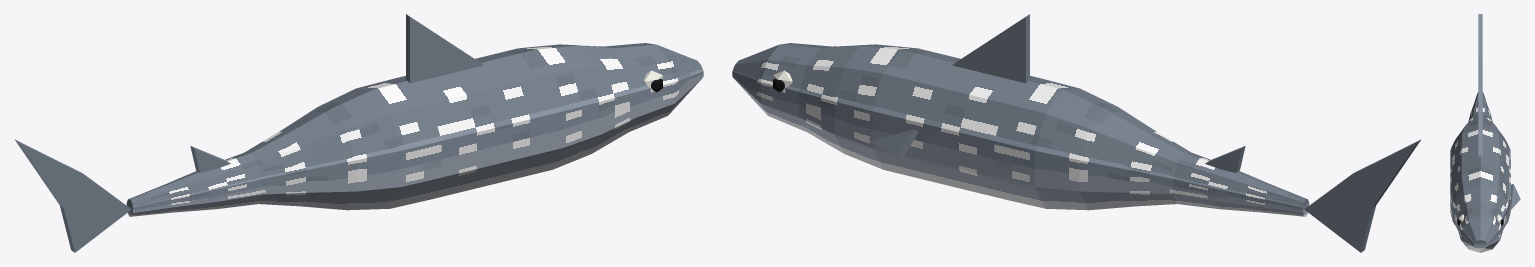
Rendered from gummy_shark.glb.
The picture shows the model from 3 angles, left to right: view 1: azimuth 30°, elevation 25°; view 2: azimuth 150°, elevation 25°; view 3: azimuth 270°, elevation 25°; orthographic projection. The views are drawn at different scales.
Visible parts, largest first — view 1: fish_gummy_shark; view 2: fish_gummy_shark; view 3: fish_gummy_shark.
Boxes of the visible parts, box(x1,y1,x2,y2) form: fish_gummy_shark: box(14, 14, 703, 252); fish_gummy_shark: box(732, 14, 1421, 252); fish_gummy_shark: box(1450, 14, 1520, 252).
Bounding box in the file's own units: 1.2 × 0.31 × 0.1993.
Materials: 4 (1 with a texture image).
